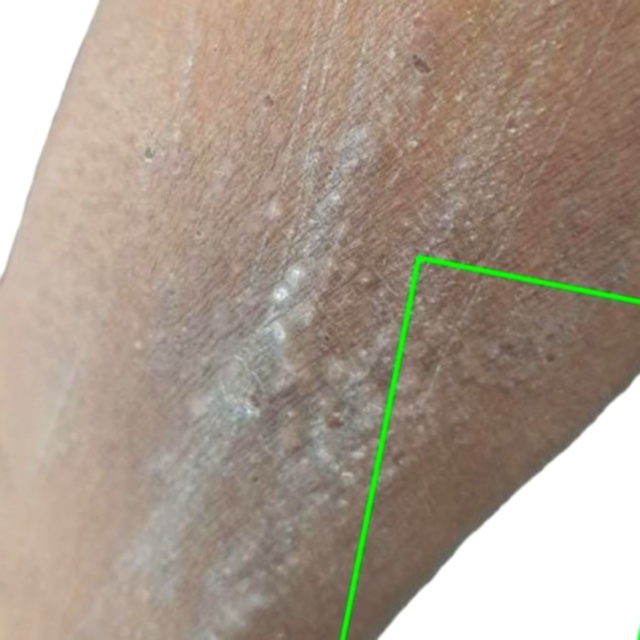Eczema: (342, 257, 639, 639)
